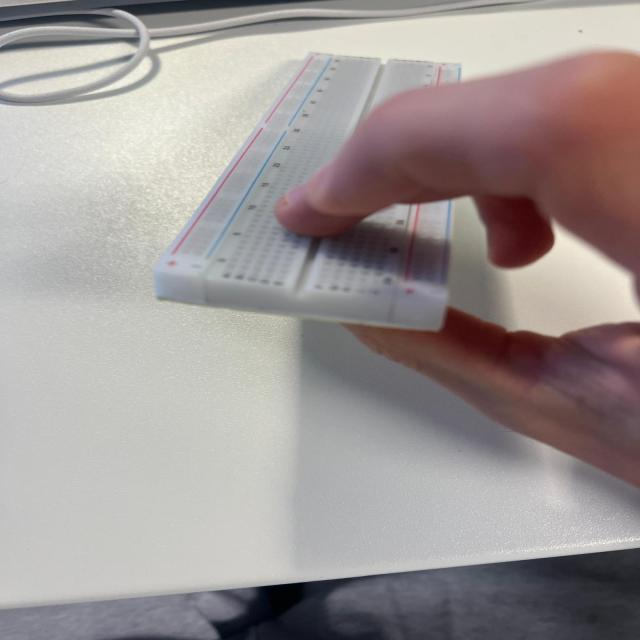BreadBoard: (145, 54, 464, 340)
